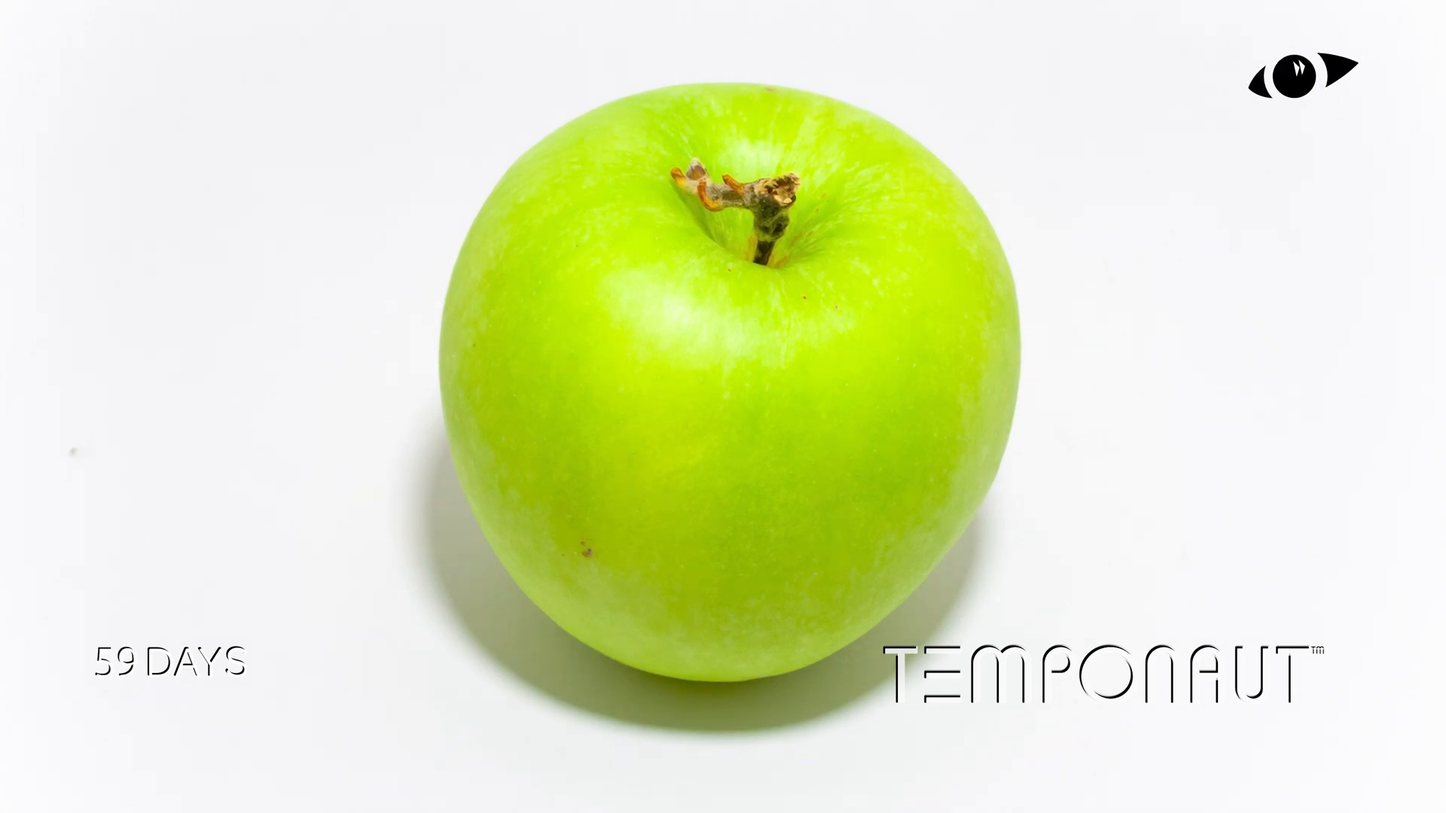apple_fresh: (438, 82, 1021, 686)
